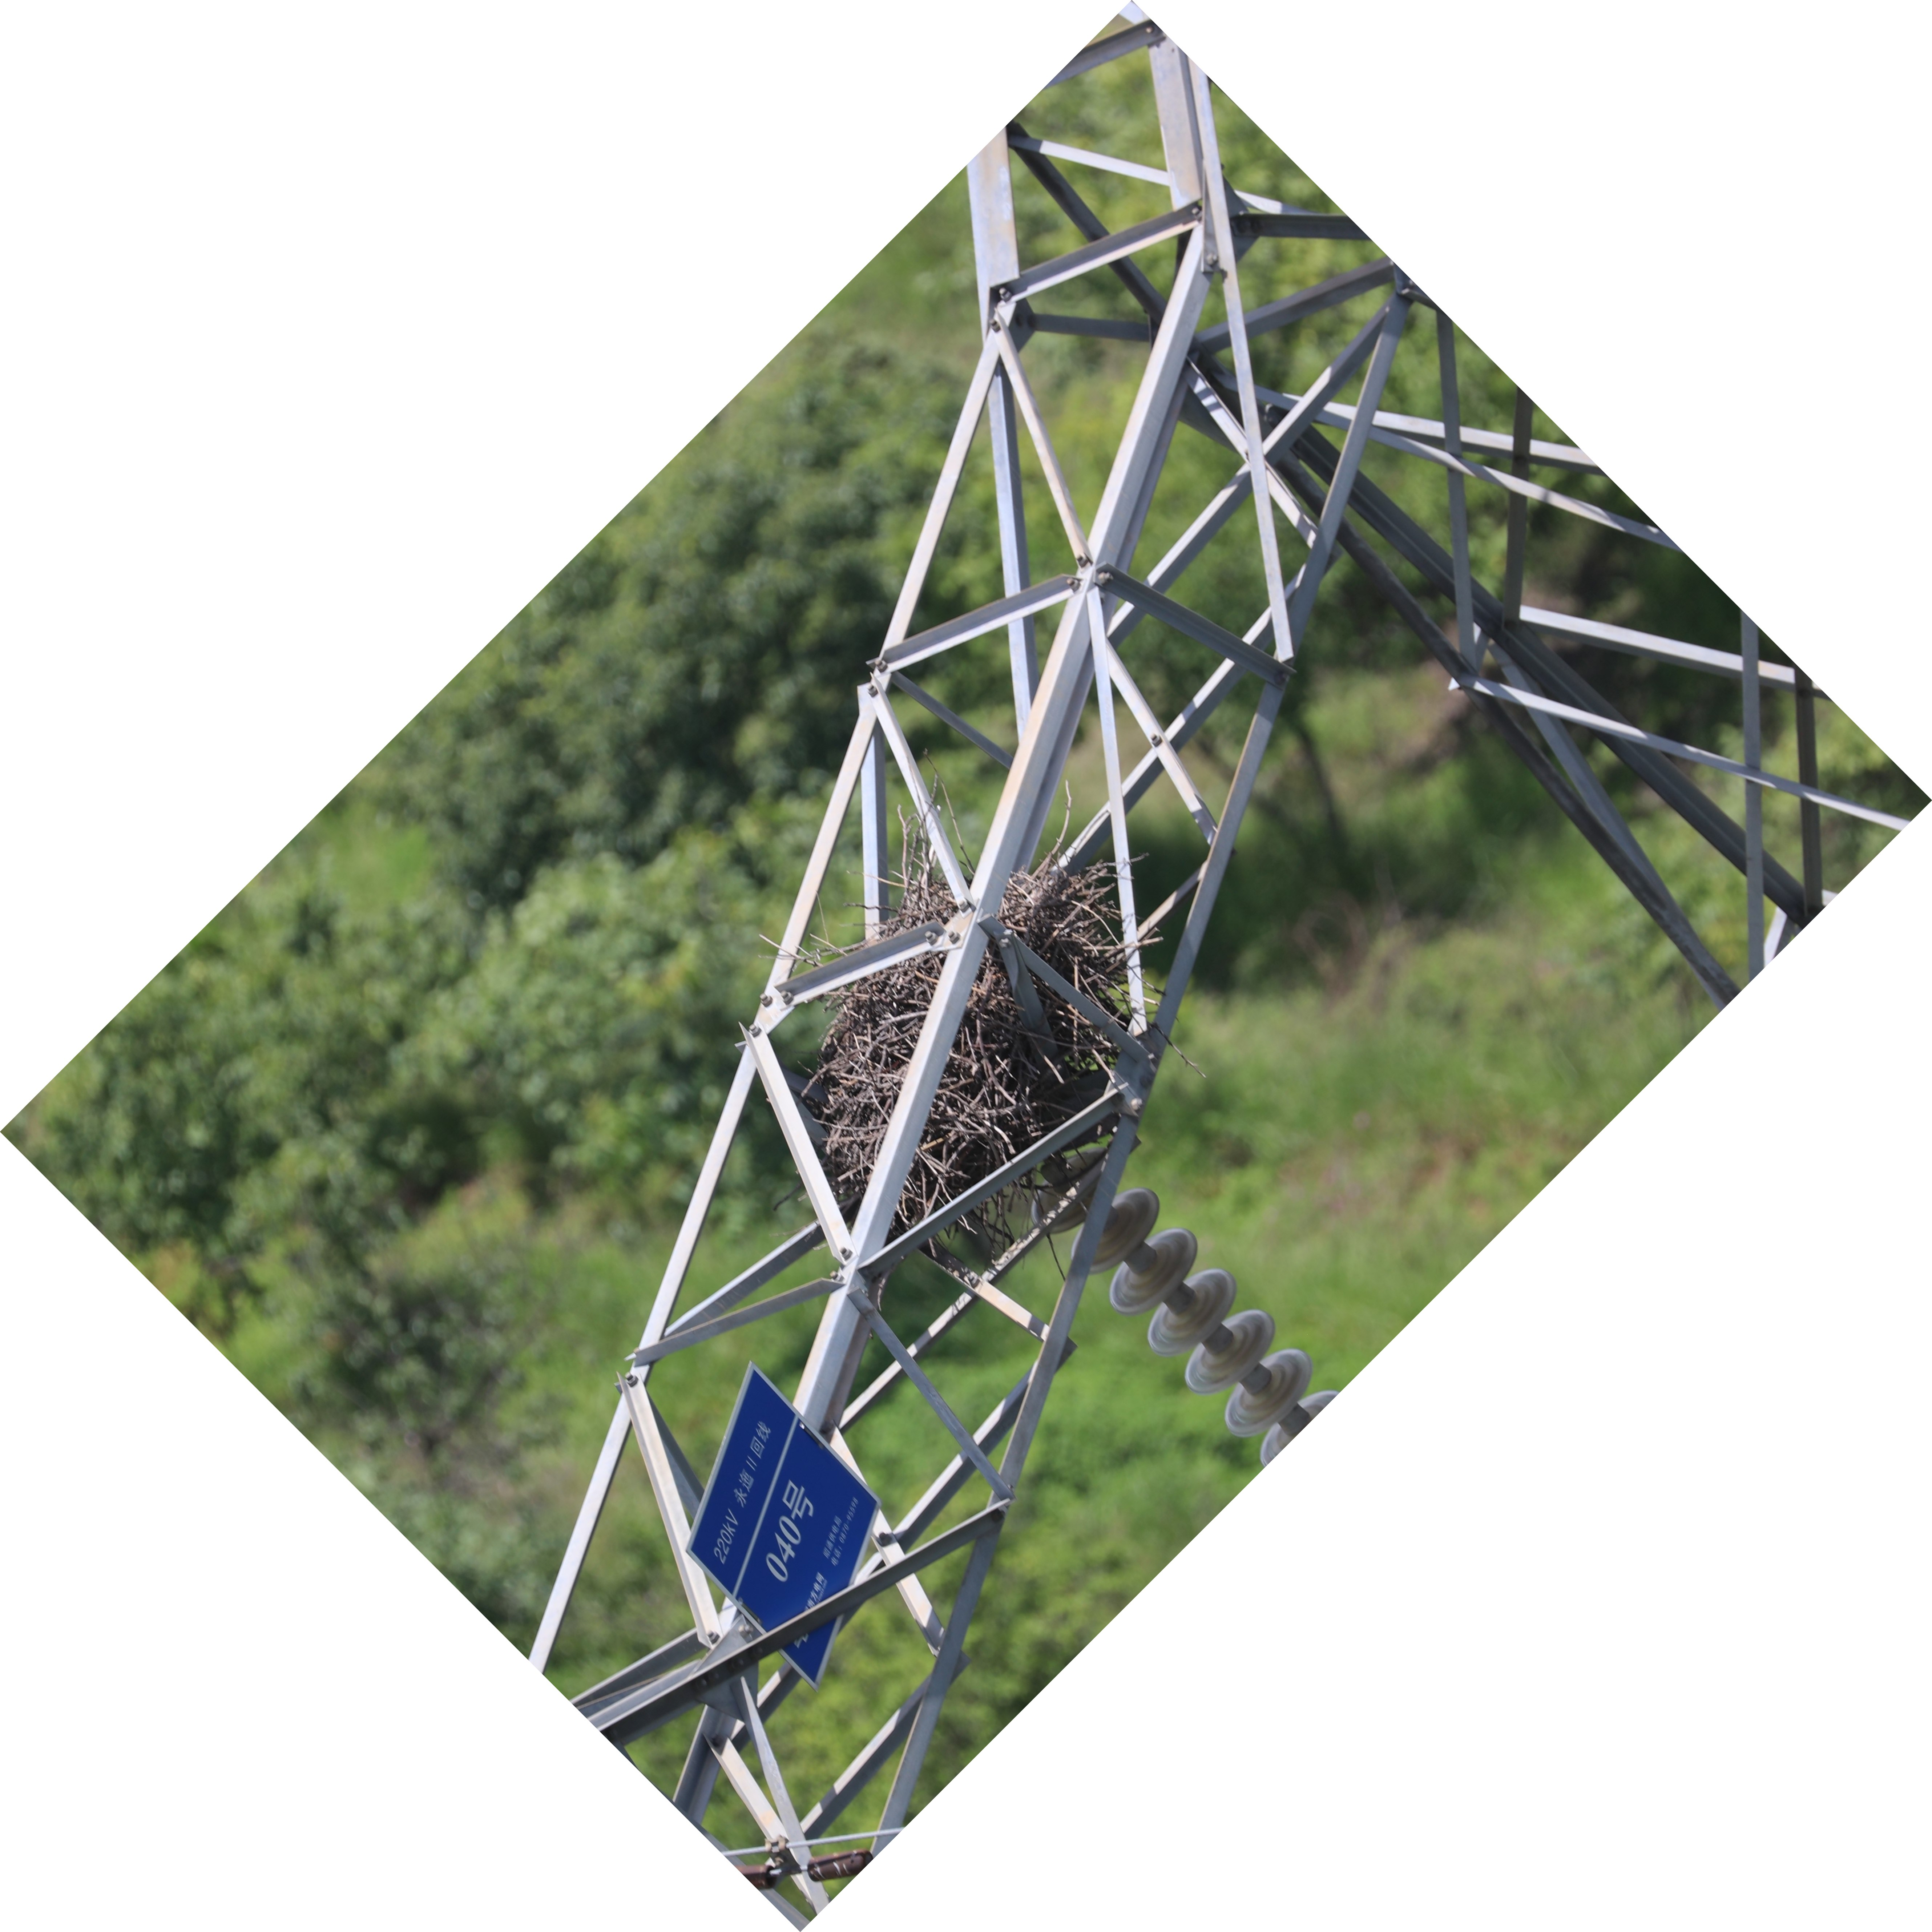niaowo: (789, 855, 1162, 1235)
